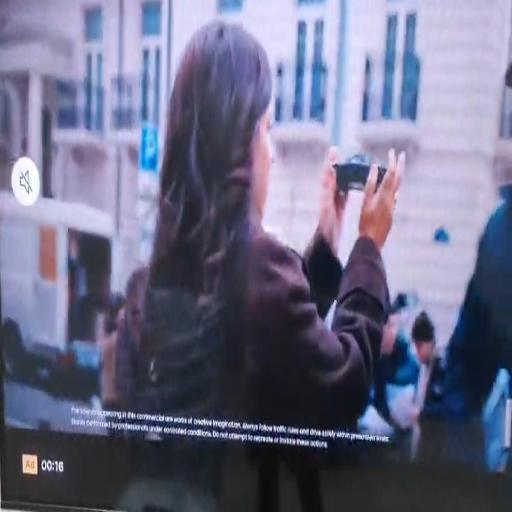ad label: (22, 452, 40, 480)
